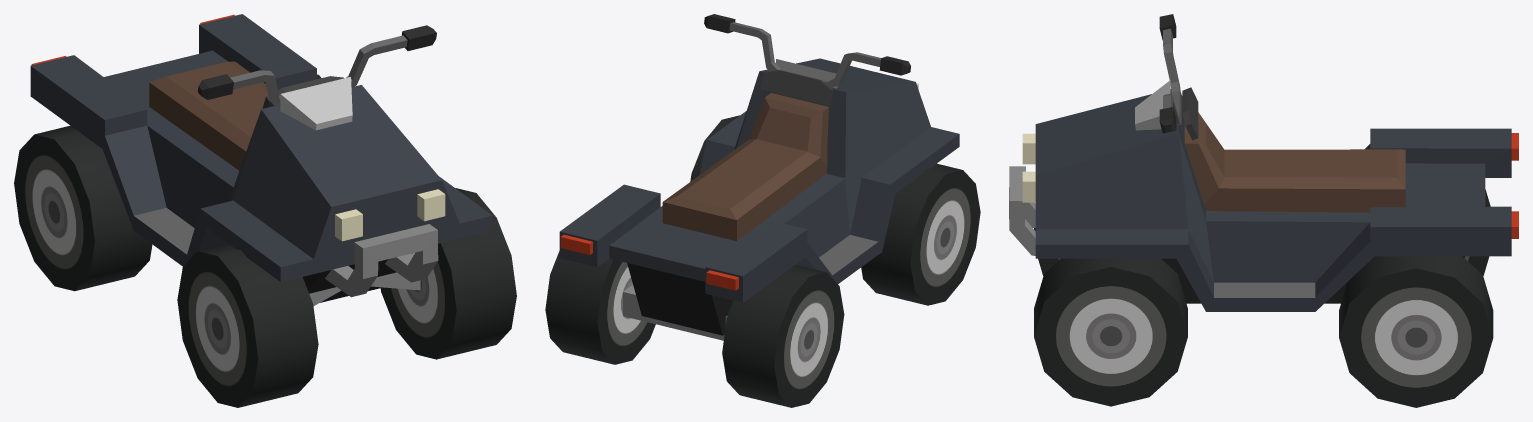
File: ATV.fbx
3 views of the same model, side by side, from view 1: azimuth 30°, elevation 25°; view 2: azimuth 150°, elevation 25°; view 3: azimuth 270°, elevation 25° (orthographic). The views are drawn at different scales.
Parts seen in each view (by area): view 1: ATV, TireFR, TireBR, TireFL; view 2: ATV, TireBR, TireFR, TireBL, TireFL; view 3: ATV, TireBL, TireFL.
Boxes of the visible parts, box(x1,y1,x2,y2) form: ATV: box(30, 14, 492, 306); TireFR: box(177, 244, 318, 407); TireBR: box(14, 125, 152, 291); TireFL: box(380, 188, 516, 359); ATV: box(559, 14, 959, 340); TireBR: box(722, 264, 844, 407); TireFR: box(861, 163, 980, 305); TireBL: box(545, 251, 655, 364); TireFL: box(690, 115, 739, 181); ATV: box(1009, 14, 1518, 311); TireBL: box(1339, 256, 1493, 407); TireFL: box(1034, 256, 1187, 406).
Bounding box in the file's own units: 123 × 131 × 215.
